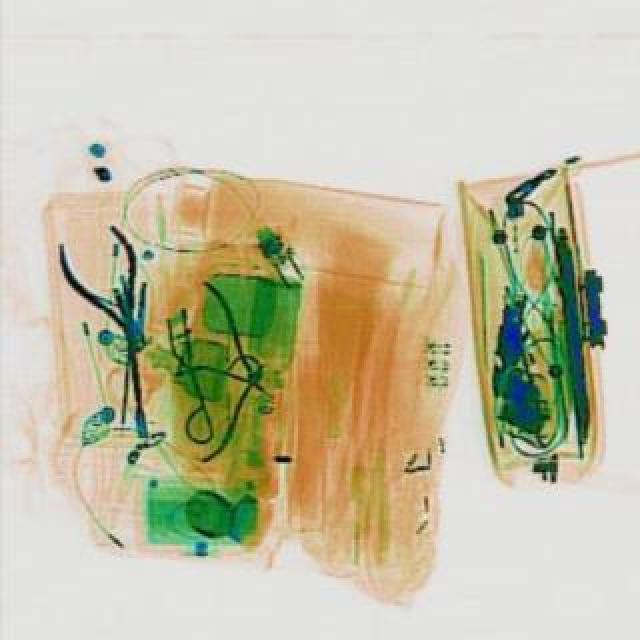wrench: (52, 222, 180, 382), (198, 284, 274, 468)
